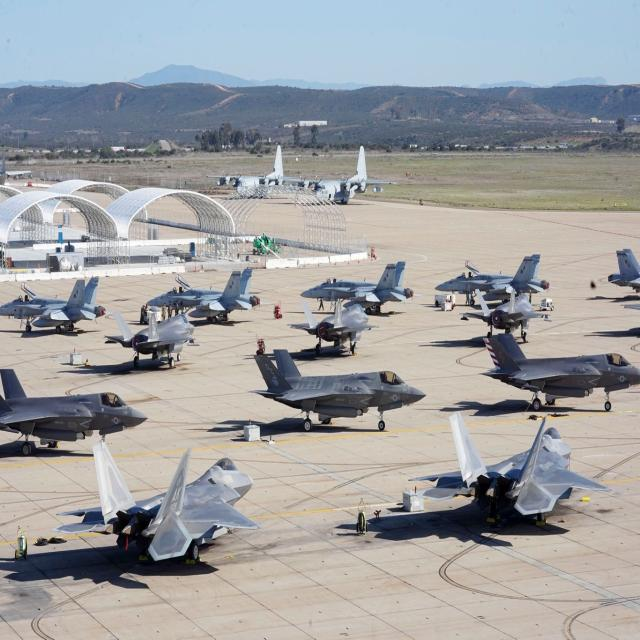MIL_Plane: (49, 442, 264, 562), (408, 410, 614, 522), (246, 349, 427, 432), (0, 368, 148, 458), (477, 333, 640, 411), (146, 268, 272, 324), (280, 145, 397, 205), (299, 260, 423, 316), (434, 253, 558, 306), (0, 277, 114, 334), (204, 112, 306, 167), (104, 312, 200, 368), (286, 300, 380, 356), (458, 288, 552, 342), (599, 248, 640, 292), (16, 116, 23, 154)
